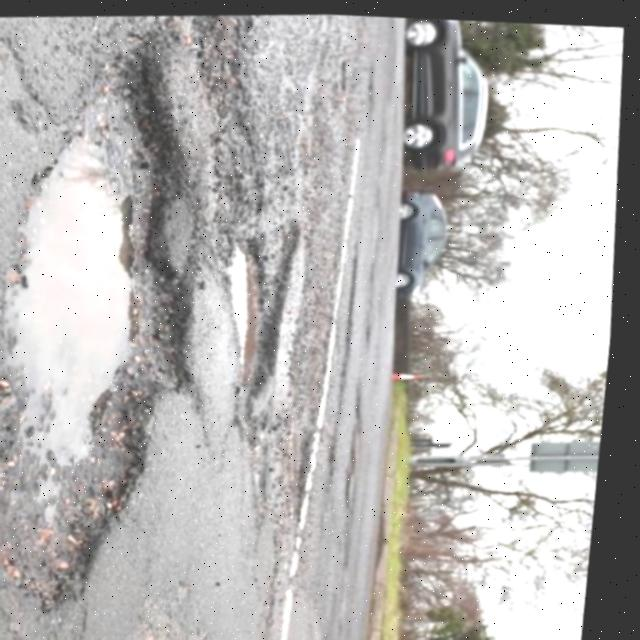Pothole: (0, 5, 251, 640), (198, 193, 344, 436), (139, 8, 277, 124), (276, 410, 352, 535), (258, 418, 303, 539)
